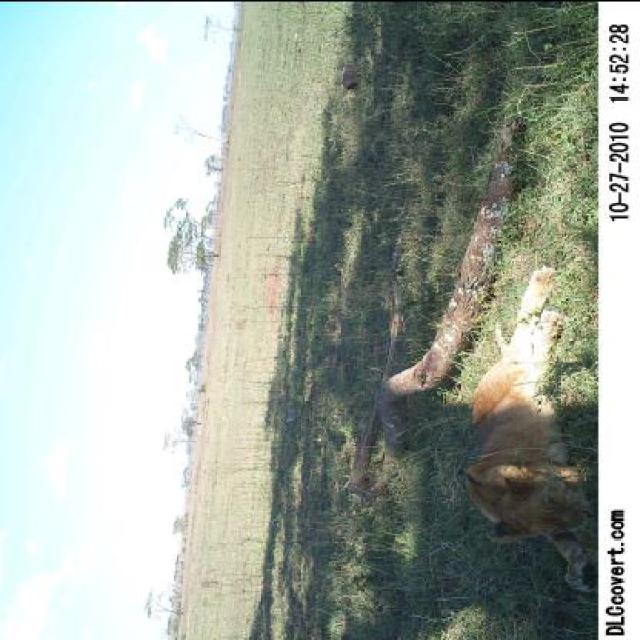Lion: (458, 244, 594, 610)
